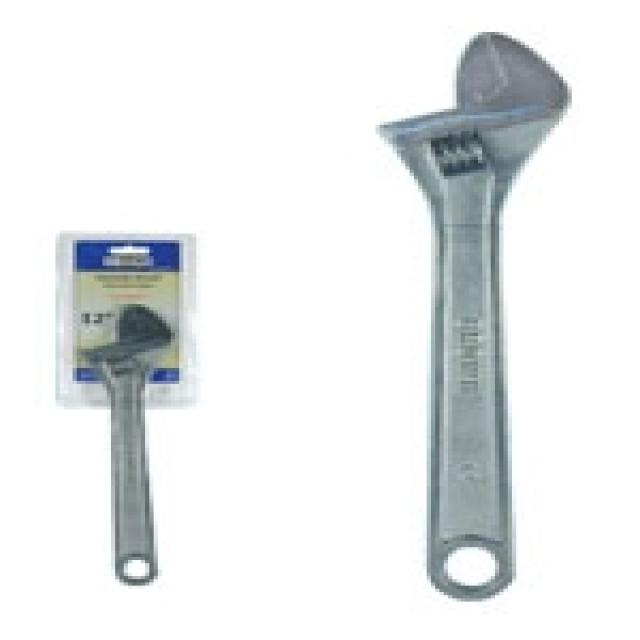wrench: (364, 19, 606, 602), (66, 303, 211, 588)
